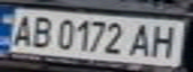0: (51, 16, 75, 52)
1: (72, 17, 90, 52)
2: (103, 18, 130, 56)
7: (87, 18, 109, 54)
A: (124, 21, 157, 59), (6, 11, 39, 47)
B: (24, 12, 57, 50)
H: (145, 21, 184, 60)
